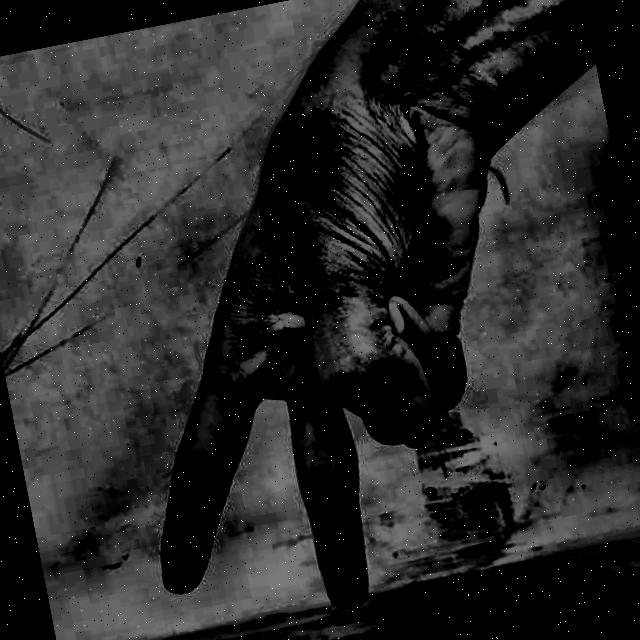Pa: (60, 17, 595, 640)
